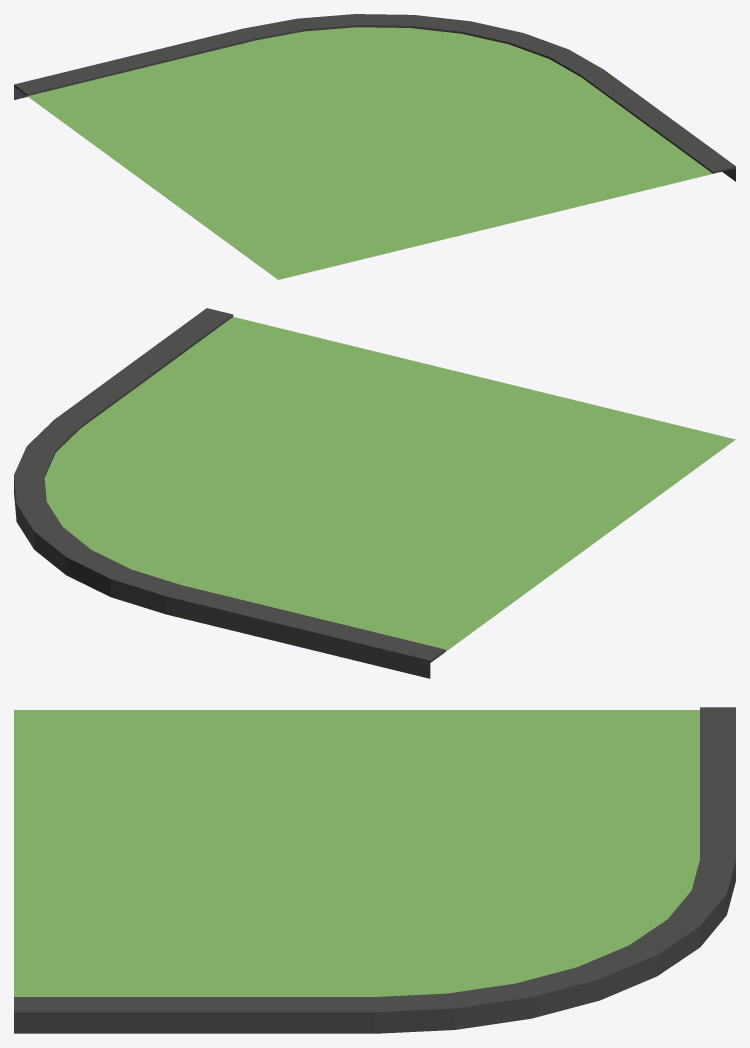
File: M_Grass350x350_5.fbx
The picture shows the model from 3 angles, top to bottom: view 1: azimuth 30°, elevation 25°; view 2: azimuth 150°, elevation 25°; view 3: azimuth 270°, elevation 25°; orthographic projection. The views are drawn at different scales.
Parts seen in each view (by area): view 1: M_Grass350x350_5; view 2: M_Grass350x350_5; view 3: M_Grass350x350_5.
Part boxes in pixels (<box>): M_Grass350x350_5: <box>14,14,735,279</box>; M_Grass350x350_5: <box>14,308,735,678</box>; M_Grass350x350_5: <box>14,707,735,1033</box>.
Size of what is drawn, in the model's own units: 350 by 350 by 11.5.
